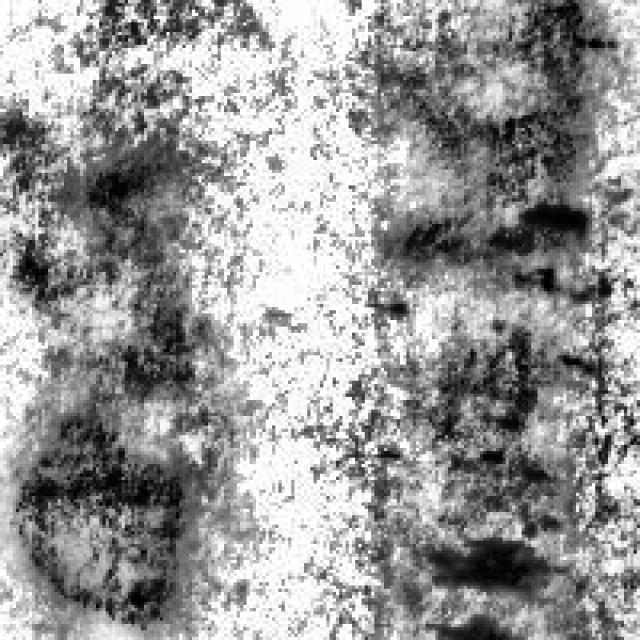Patches: (428, 532, 554, 630)
Scratches: (404, 16, 598, 301), (0, 364, 195, 628), (54, 134, 164, 260)
